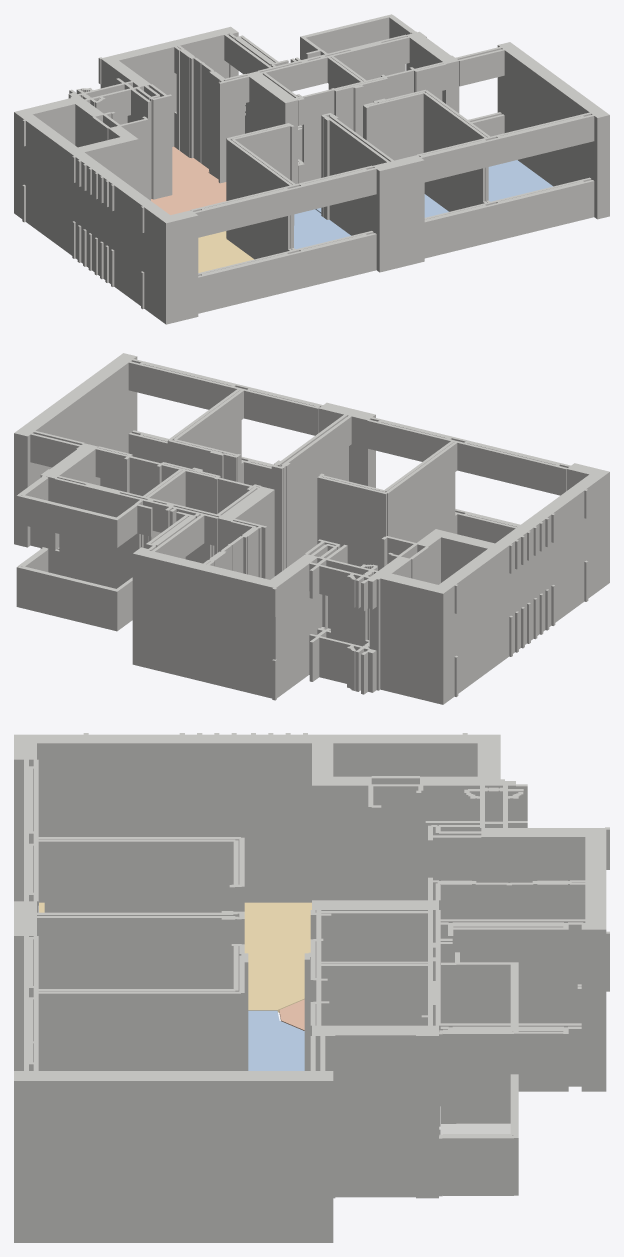
3 renders of one model, top to bottom at view 1: azimuth 30°, elevation 25°; view 2: azimuth 150°, elevation 25°; view 3: azimuth 270°, elevation 25°, orthographic. The views are drawn at different scales.
Parts seen in each view (by area): view 1: walls, room:kitchen:0, room:bedroom:9, room:living:3, room:bedroom:6; view 2: walls; view 3: walls, room:living:3, room:bedroom:6, room:ledge:4.
Part boxes in pixels (x1,y1,x2,y2): walls: (14,14,609,324); room:kitchen:0: (151,146,226,214); room:bedroom:9: (488,160,552,201); room:living:3: (198,231,253,272); room:bedroom:6: (294,209,350,249); walls: (14,353,609,704); walls: (14,733,609,1242); room:living:3: (39,902,311,1012); room:bedroom:6: (248,1010,304,1070); room:ledge:4: (441,1123,510,1134).
Bounding box in the file's own units: 12.89 × 2.8 × 9.33.
